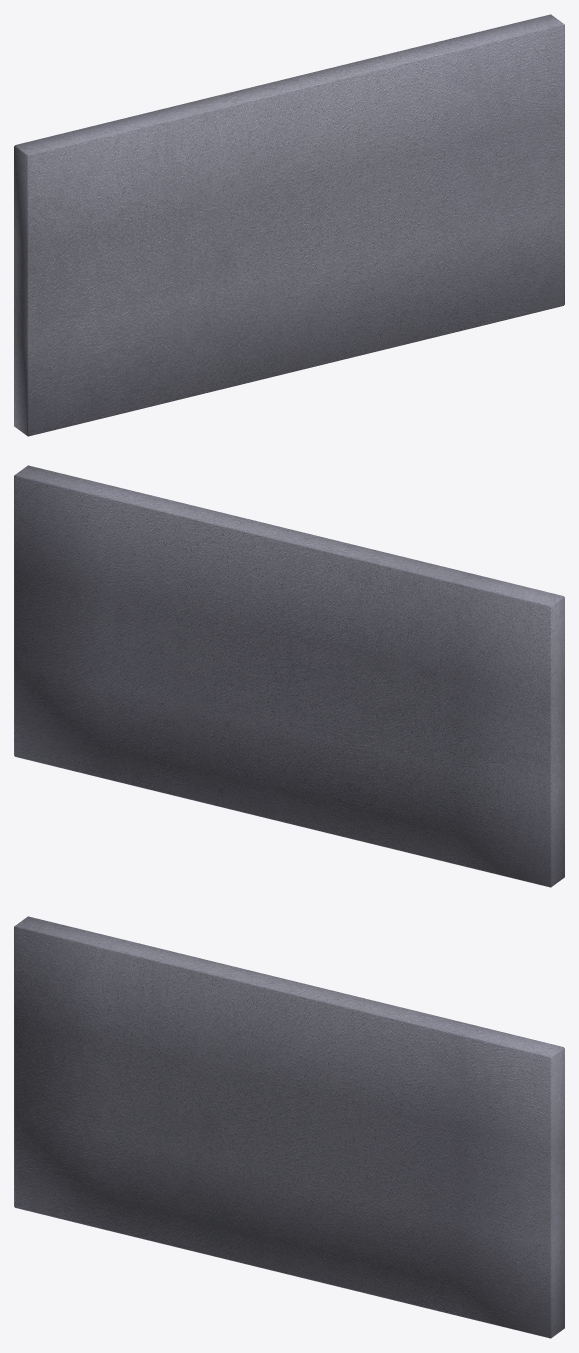
File: ConcreteWall_Med.FBX
The picture shows the model from 3 angles, top to bottom: view 1: azimuth 30°, elevation 25°; view 2: azimuth 150°, elevation 25°; view 3: azimuth 330°, elevation 25°; orthographic projection.
Parts seen in each view (by area): view 1: Box068; view 2: Box068; view 3: Box068.
Boxes of the visible parts, x1=… form: Box068: x1=14, y1=14, x2=564, y2=436; Box068: x1=14, y1=465, x2=564, y2=887; Box068: x1=14, y1=916, x2=564, y2=1338.
Bounding box in the file's own units: 652 × 327 × 30.48.
